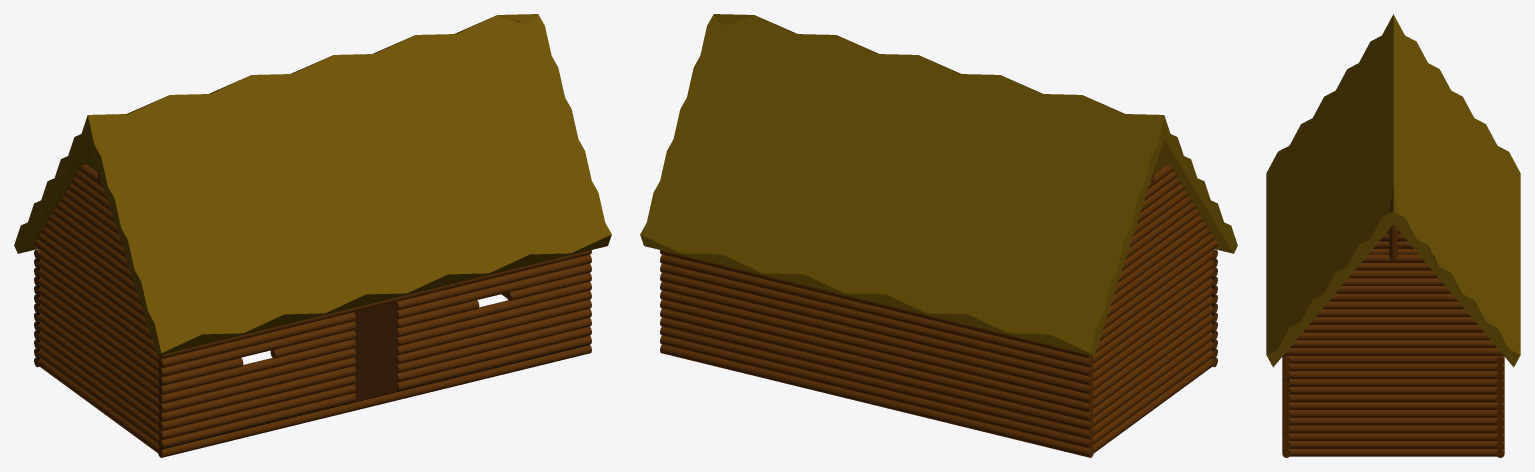
File: house.fbx
3 renders of one model, left to right at view 1: azimuth 30°, elevation 25°; view 2: azimuth 150°, elevation 25°; view 3: azimuth 270°, elevation 25°, orthographic. The views are drawn at different scales.
Parts seen in each view (by area): view 1: Cylinder.019; view 2: Cylinder.019; view 3: Cylinder.019.
Part boxes in pixels (x1,y1,x2,y2): Cylinder.019: (14,14,611,457); Cylinder.019: (640,14,1237,457); Cylinder.019: (1266,14,1520,457).
Bounding box in the file's own units: 1050 × 668 × 595.
